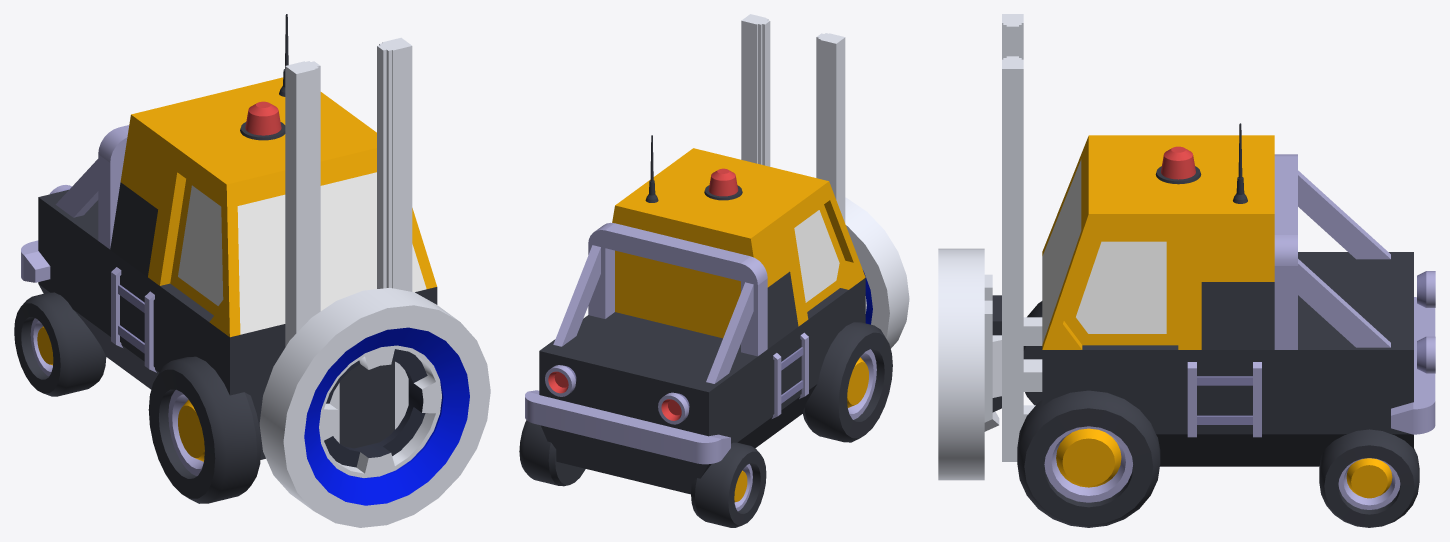
The model's file is Truck2.fbx.
3 views of the same model, side by side, from view 1: azimuth 30°, elevation 25°; view 2: azimuth 150°, elevation 25°; view 3: azimuth 270°, elevation 25° (orthographic). The views are drawn at different scales.
Visible parts, largest first — view 1: Cockpit, MagnetOuter, Fork.Rails1, FrontWheel.R, Body.Front, Body.Back, MagnetInner, BackWheel.R, MagnetConnector, RollCage, Fork.Rails3, Fork.Rails2 (+3 smaller); view 2: Cockpit, Body.Back, RollCage, FrontWheel.R, Fork.Rails1, BackBumper, Body.Front, MagnetOuter, BackWheel.R, BackWheel.L, Fork.Rails3, SideRails.R (+4 smaller); view 3: Cockpit, Body.Back, Body.Front, FrontWheel.L, MagnetOuter, RollCage, Fork.Rails1, BackWheel.L, BackBumper, SideRail.L, MagnetConnector, Fork.RailsSupportTop (+4 smaller).
Part boxes in pixels (bbox=[...]): Cockpit: bbox=[110, 77, 436, 337]; MagnetOuter: bbox=[259, 288, 490, 527]; Fork.Rails1: bbox=[285, 37, 412, 346]; FrontWheel.R: bbox=[148, 356, 261, 503]; Body.Front: bbox=[110, 250, 437, 459]; Body.Back: bbox=[38, 189, 130, 374]; MagnetInner: bbox=[319, 345, 441, 477]; BackWheel.R: bbox=[14, 292, 106, 396]; MagnetConnector: bbox=[329, 360, 408, 448]; RollCage: bbox=[55, 125, 129, 249]; Fork.Rails3: bbox=[304, 43, 397, 312]; Fork.Rails2: bbox=[294, 40, 405, 314]; Cockpit: bbox=[612, 148, 865, 348]; Body.Back: bbox=[539, 312, 767, 494]; RollCage: bbox=[553, 222, 767, 383]; FrontWheel.R: bbox=[802, 322, 892, 442]; Fork.Rails1: bbox=[741, 14, 845, 222]; BackBumper: bbox=[525, 390, 730, 464]; Body.Front: bbox=[753, 278, 865, 448]; MagnetOuter: bbox=[845, 197, 909, 348]; BackWheel.R: bbox=[691, 442, 766, 527]; BackWheel.L: bbox=[519, 420, 585, 486]; Fork.Rails3: bbox=[756, 19, 823, 178]; SideRails.R: bbox=[772, 332, 808, 418]; Cockpit: bbox=[1042, 135, 1274, 349]; Body.Back: bbox=[1274, 252, 1413, 466]; Body.Front: bbox=[1042, 345, 1274, 466]; FrontWheel.L: bbox=[1017, 390, 1160, 527]; MagnetOuter: bbox=[938, 248, 984, 480]; RollCage: bbox=[1274, 154, 1390, 349]; Fork.Rails1: bbox=[1002, 14, 1023, 461]; BackWheel.L: bbox=[1319, 429, 1419, 527]; BackBumper: bbox=[1391, 297, 1435, 434]; SideRail.L: bbox=[1187, 362, 1261, 437]; MagnetConnector: bbox=[984, 274, 1001, 431]; Fork.RailsSupportTop: bbox=[1008, 317, 1042, 391].
Bounding box in the file's own units: 18.49 × 30.6 × 32.1.
